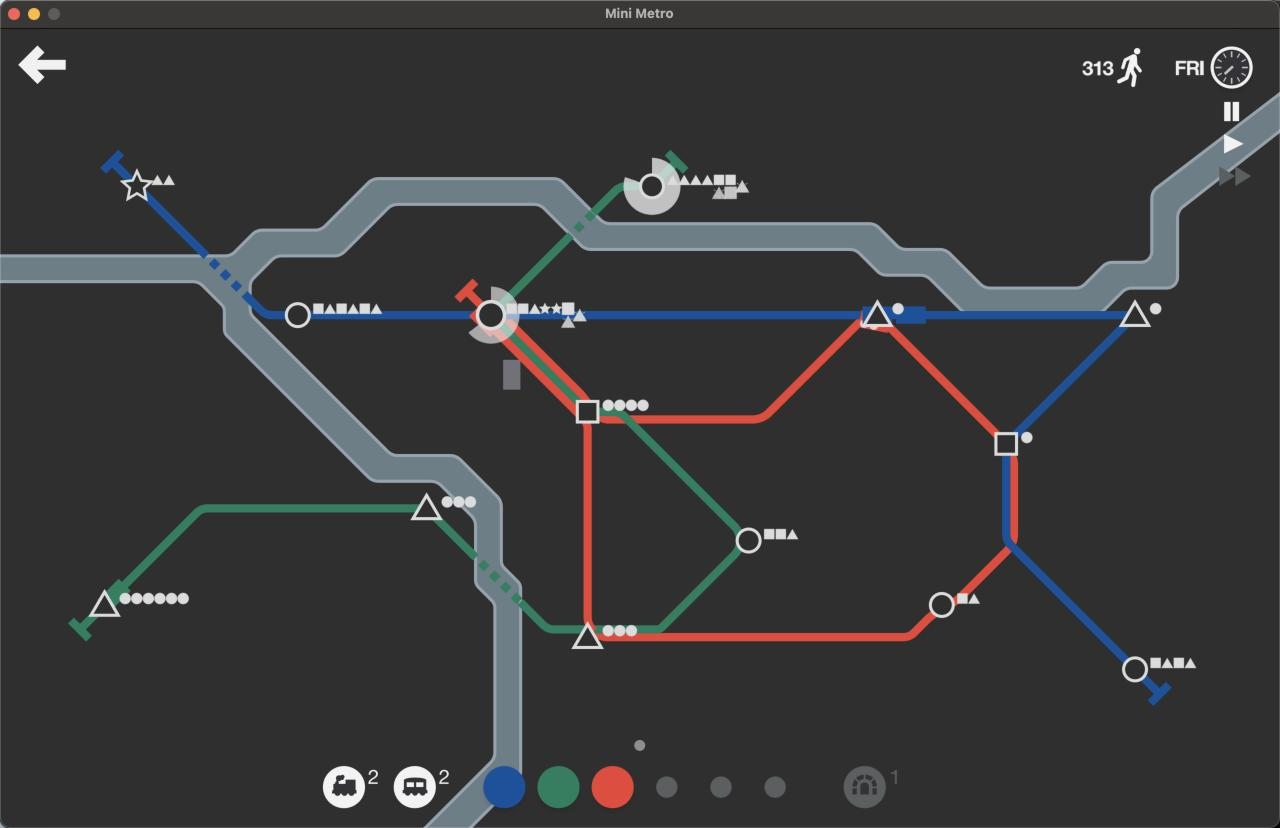CIRCLE: (474, 299, 507, 333), (284, 301, 312, 329), (735, 527, 762, 555), (928, 591, 955, 619), (638, 173, 666, 199), (1122, 655, 1148, 682)
SQUARE: (575, 399, 601, 425), (994, 431, 1019, 456)
STAR: (121, 170, 153, 201)
TRIANGLE: (85, 587, 123, 620), (861, 298, 893, 329), (1119, 298, 1152, 328), (410, 491, 443, 521), (571, 623, 603, 650)
